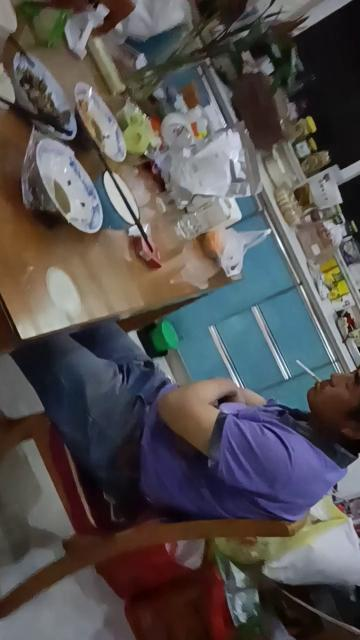Cigarette: (296, 360, 322, 382)
